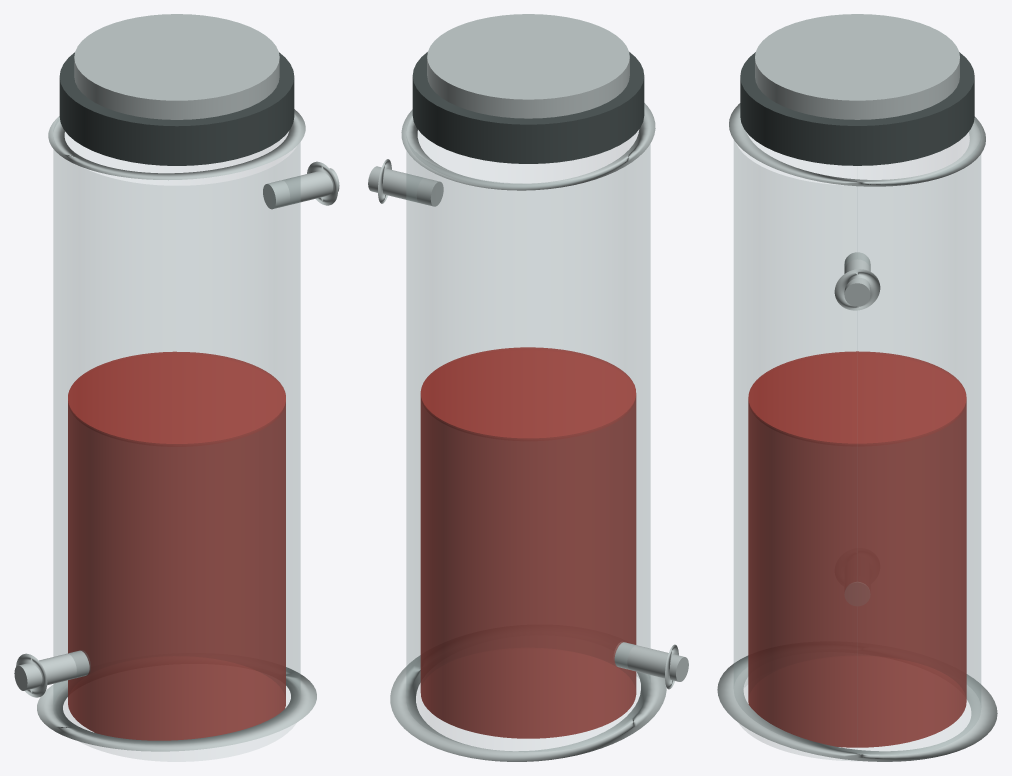
File: reservoir.glb
3 views of the same model, side by side, from view 1: azimuth 30°, elevation 25°; view 2: azimuth 150°, elevation 25°; view 3: azimuth 270°, elevation 25° (orthographic).
Parts seen in each view (by area): view 1: ReservoirWall, PerfusateVolume, CapCollar, LiquidSurface, ReservoirCap, BaseRim, NeckRim, InletPort, OutletPort; view 2: ReservoirWall, PerfusateVolume, CapCollar, LiquidSurface, ReservoirCap, BaseRim, NeckRim, InletPort, OutletPort; view 3: ReservoirWall, PerfusateVolume, CapCollar, LiquidSurface, ReservoirCap, BaseRim, NeckRim, InletPort, InletFerrule.
Boxes of the visible parts, bbox=[...] form: ReservoirWall: bbox=[53, 118, 300, 761]; PerfusateVolume: bbox=[68, 354, 285, 740]; CapCollar: bbox=[74, 14, 279, 119]; LiquidSurface: bbox=[68, 351, 285, 446]; ReservoirCap: bbox=[59, 52, 294, 165]; BaseRim: bbox=[37, 667, 316, 751]; NeckRim: bbox=[48, 109, 305, 180]; InletPort: bbox=[263, 168, 339, 209]; OutletPort: bbox=[14, 650, 90, 690]; ReservoirWall: bbox=[406, 130, 650, 751]; PerfusateVolume: bbox=[420, 349, 636, 738]; CapCollar: bbox=[427, 14, 629, 118]; LiquidSurface: bbox=[420, 347, 636, 441]; ReservoirCap: bbox=[412, 52, 644, 163]; BaseRim: bbox=[390, 655, 666, 761]; NeckRim: bbox=[401, 103, 655, 190]; InletPort: bbox=[368, 166, 443, 206]; OutletPort: bbox=[614, 642, 688, 681]; ReservoirWall: bbox=[734, 118, 980, 760]; PerfusateVolume: bbox=[748, 353, 966, 747]; CapCollar: bbox=[755, 14, 959, 119]; LiquidSurface: bbox=[748, 351, 966, 446]; ReservoirCap: bbox=[740, 52, 974, 165]; BaseRim: bbox=[717, 655, 997, 761]; NeckRim: bbox=[729, 103, 985, 186]; InletPort: bbox=[844, 252, 870, 306]; InletFerrule: bbox=[834, 269, 880, 310].
Size of the model in its own units: 0.221 by 0.4445 by 0.172.
